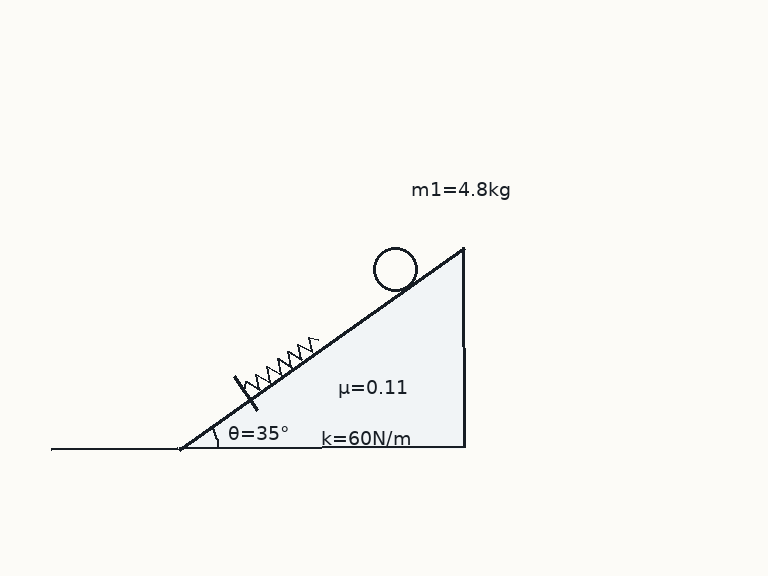ball: (371, 245, 419, 293)
ramp: (176, 246, 466, 450)
spring: (242, 335, 321, 393)
